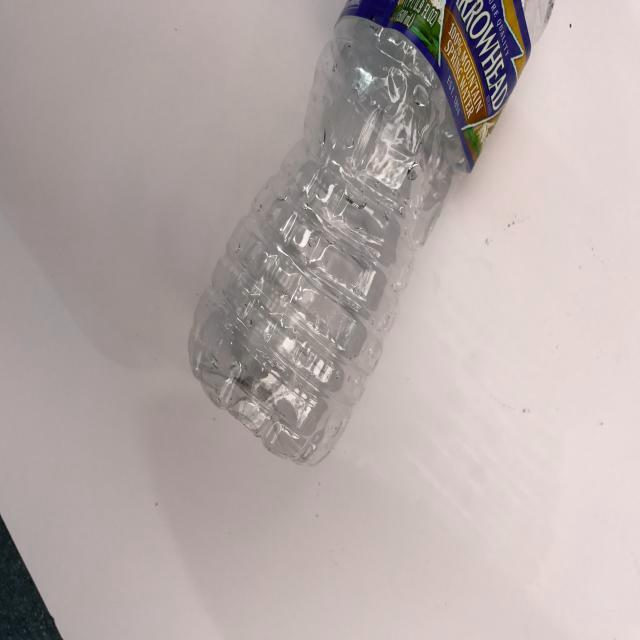plastic: (193, 0, 568, 572)
